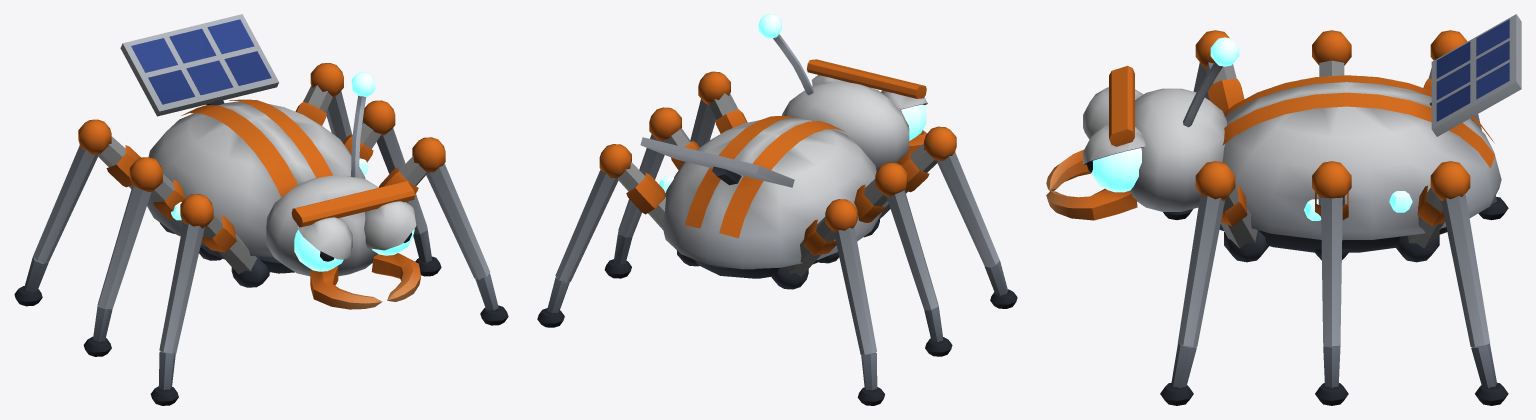
Rendered from bug_space.glb.
3 renders of one model, left to right at view 1: azimuth 30°, elevation 25°; view 2: azimuth 150°, elevation 25°; view 3: azimuth 270°, elevation 25°, orthographic. The views are drawn at different scales.
Visible parts, largest first — view 1: body, leg_R1, leg_R3, leg_R2, leg_L1, leg_L2, eye_R, leg_L3, eye_L; view 2: body, leg_R3, leg_L3, leg_R1, leg_R2, leg_L2, leg_L1, eye_R; view 3: body, leg_L1, leg_L3, leg_L2, eye_L, leg_R1, leg_R2, leg_R3, eye_R.
Boxes of the visible parts, left/top/right/bottom form: body: left=120, top=14, right=420, bottom=309; leg_R1: left=150, top=194, right=269, bottom=405; leg_R3: left=14, top=119, right=174, bottom=306; leg_R2: left=83, top=157, right=222, bottom=356; leg_L1: left=379, top=137, right=508, bottom=325; leg_L2: left=343, top=100, right=441, bottom=276; eye_R: left=294, top=217, right=352, bottom=271; leg_L3: left=295, top=63, right=352, bottom=142; eye_L: left=364, top=201, right=416, bottom=255; body: left=640, top=14, right=926, bottom=278; leg_R3: left=771, top=199, right=884, bottom=405; leg_L3: left=537, top=144, right=699, bottom=327; leg_R1: left=864, top=126, right=1017, bottom=308; leg_R2: left=819, top=162, right=952, bottom=356; leg_L2: left=604, top=107, right=699, bottom=278; leg_L1: left=690, top=71, right=747, bottom=147; eye_R: left=881, top=90, right=927, bottom=140; body: left=1046, top=14, right=1521, bottom=252; leg_L1: left=1160, top=161, right=1269, bottom=405; leg_L3: left=1395, top=161, right=1508, bottom=405; leg_L2: left=1312, top=161, right=1351, bottom=405; eye_L: left=1083, top=124, right=1145, bottom=192; leg_R1: left=1163, top=30, right=1244, bottom=219; leg_R2: left=1312, top=30, right=1351, bottom=76; leg_R3: left=1423, top=30, right=1508, bottom=220; eye_R: left=1083, top=87, right=1143, bottom=139.
Bounding box in the file's own units: 0.948 × 0.67 × 0.9519.
